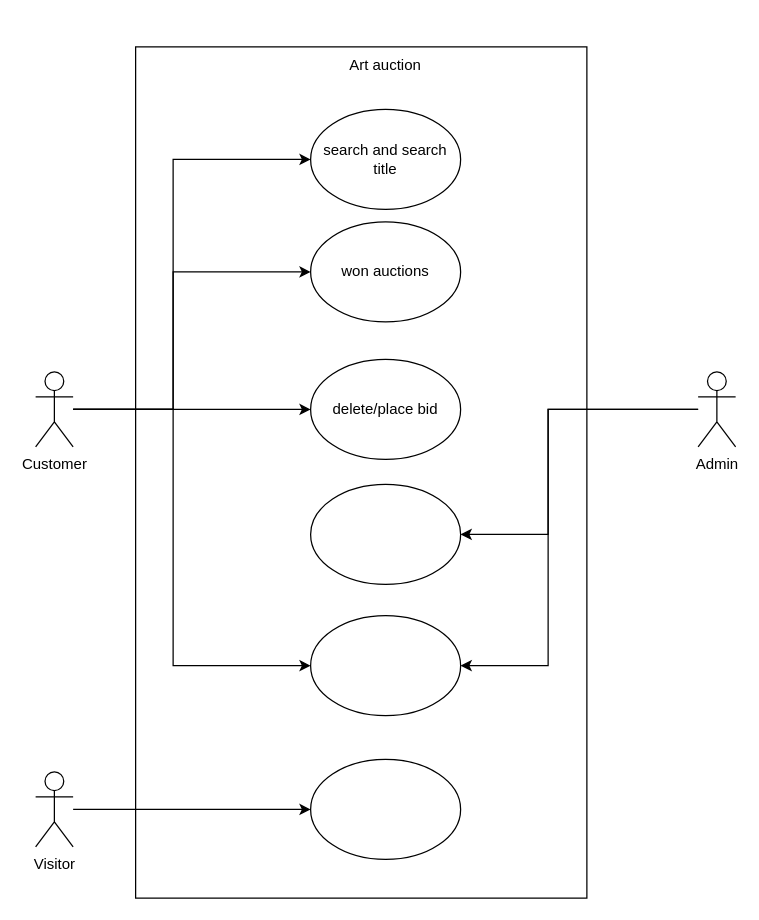
Image size: 759x920. Some labels were removed from this diagram. The centre of each missing label's shape, as x and y in pixels:
"add/delete/modify action" goes at point 385,533.
"login" goes at point 385,665.
"Register" goes at point 385,808.
